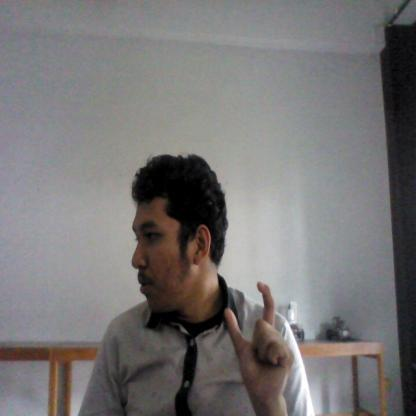U: (223, 282, 296, 406)
